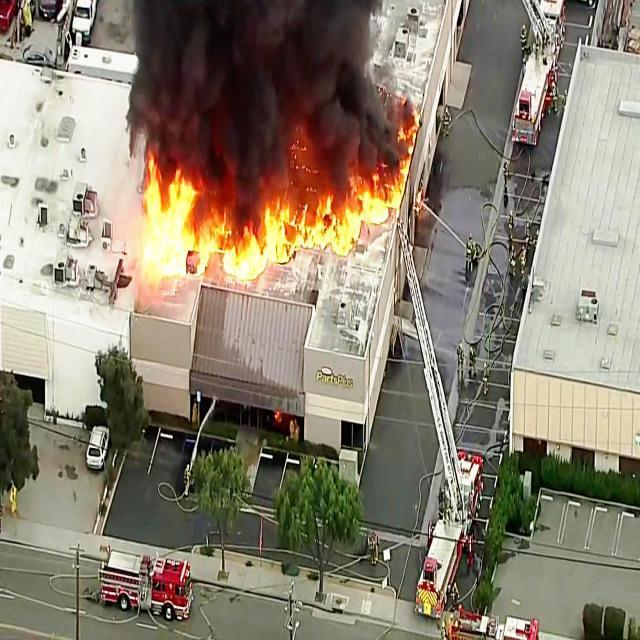Fire: (255, 197, 375, 256), (145, 148, 195, 284), (218, 228, 270, 290)
Smoke: (162, 0, 367, 135)
